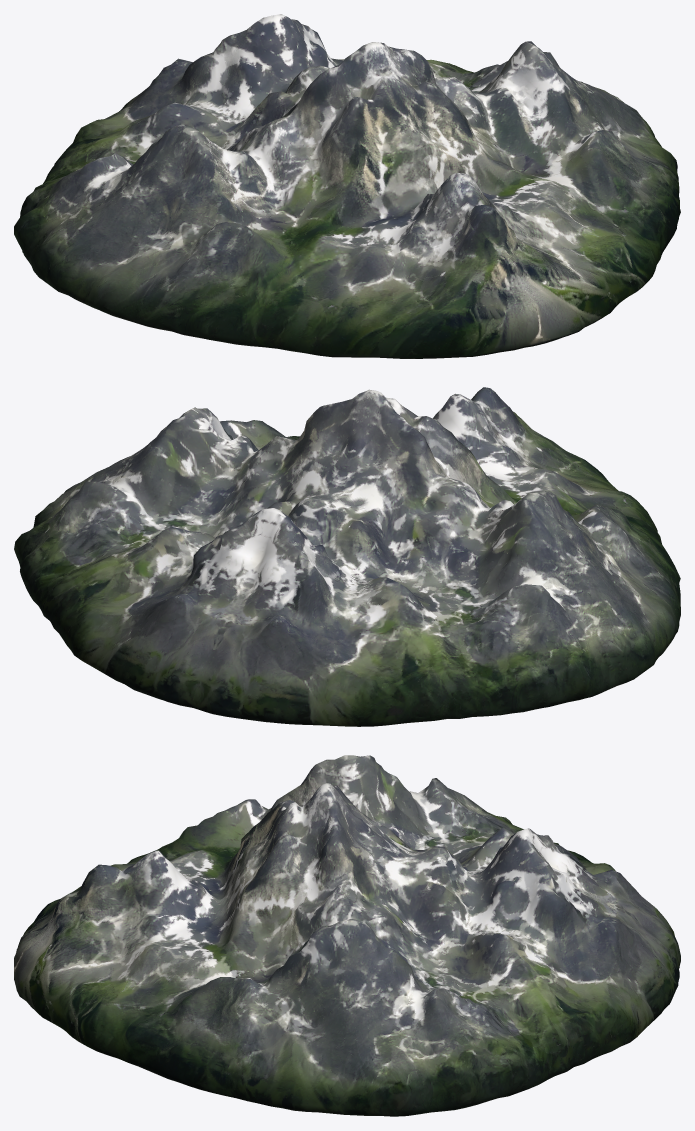
The model's file is mountains.glb.
3 views of the same model, one above another, from view 1: azimuth 30°, elevation 25°; view 2: azimuth 150°, elevation 25°; view 3: azimuth 270°, elevation 25° (orthographic).
Visible parts, largest first — view 1: Mesh_0; view 2: Mesh_0; view 3: Mesh_0.
Boxes of the visible parts, x1,y1,x2,y2 form: Mesh_0: [14, 14, 680, 358]; Mesh_0: [14, 387, 680, 726]; Mesh_0: [14, 755, 680, 1116].
Bounding box in the file's own units: 331 × 100 × 321.
1 material, 1 textured.
